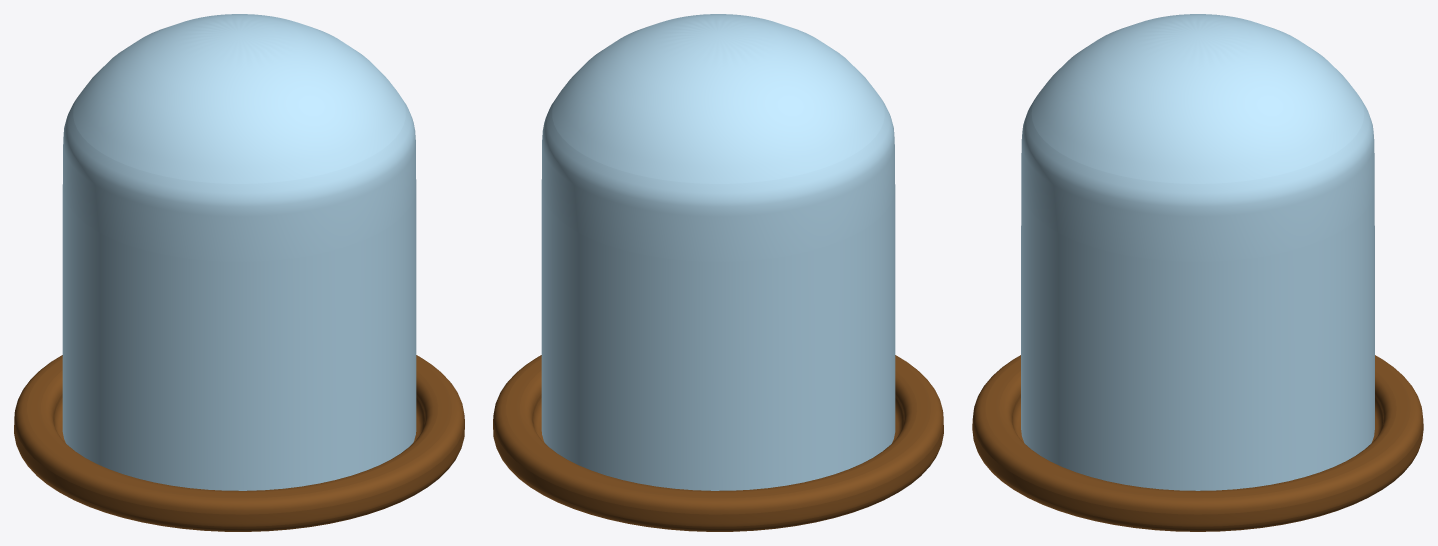
File: MALKERTENKELE.fbx
3 views of the same model, side by side, from view 1: azimuth 30°, elevation 25°; view 2: azimuth 150°, elevation 25°; view 3: azimuth 270°, elevation 25° (orthographic).
Parts seen in each view (by area): view 1: Circle.001, Circle; view 2: Circle.001, Circle; view 3: Circle.001, Circle.
Boxes of the visible parts, x1=… form: Circle.001: x1=62, y1=14, x2=416, y2=490; Circle: x1=14, y1=355, x2=464, y2=531; Circle.001: x1=541, y1=14, x2=895, y2=490; Circle: x1=493, y1=355, x2=943, y2=531; Circle.001: x1=1021, y1=14, x2=1374, y2=490; Circle: x1=972, y1=355, x2=1423, y2=531.
Bounding box in the file's own units: 459 × 473 × 459.
